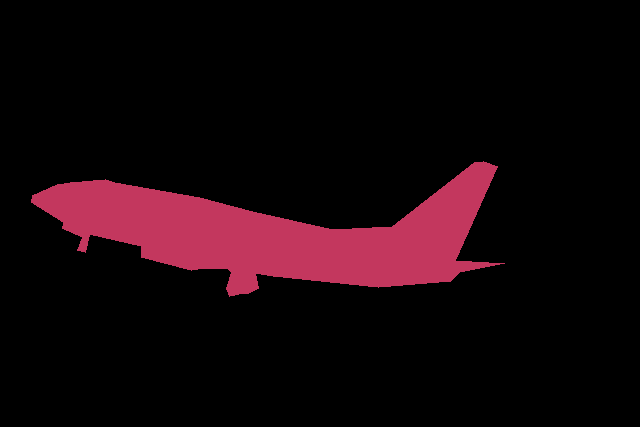Airplane: (31, 161, 504, 297)
